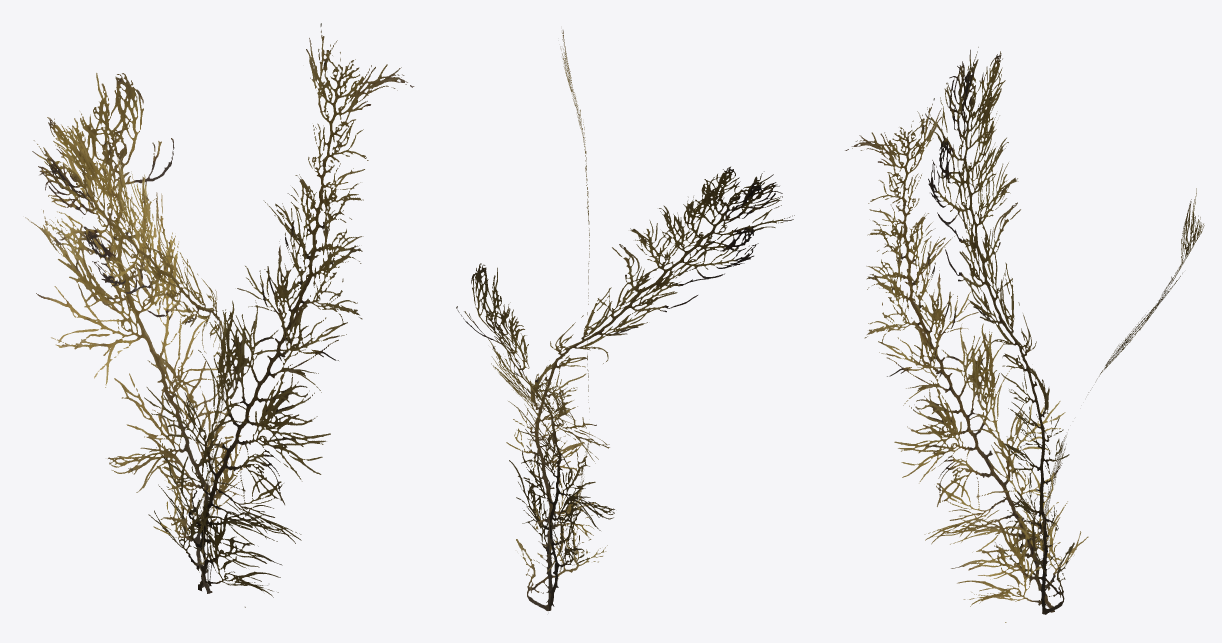
The model's file is seaweed_2_4.FBX.
The picture shows the model from 3 angles, left to right: view 1: azimuth 30°, elevation 25°; view 2: azimuth 150°, elevation 25°; view 3: azimuth 270°, elevation 25°; orthographic projection. The views are drawn at different scales.
Visible parts, largest first — view 1: seaweed_2_04; view 2: seaweed_2_04; view 3: seaweed_2_04.
Part boxes in pixels (x1,y1,x2,y2): seaweed_2_04: (25, 23, 414, 607); seaweed_2_04: (456, 30, 794, 610); seaweed_2_04: (845, 47, 1204, 622).
Size of the model in its own units: 27.95 by 48.95 by 29.95.
Materials: 1 (1 with a texture image).
